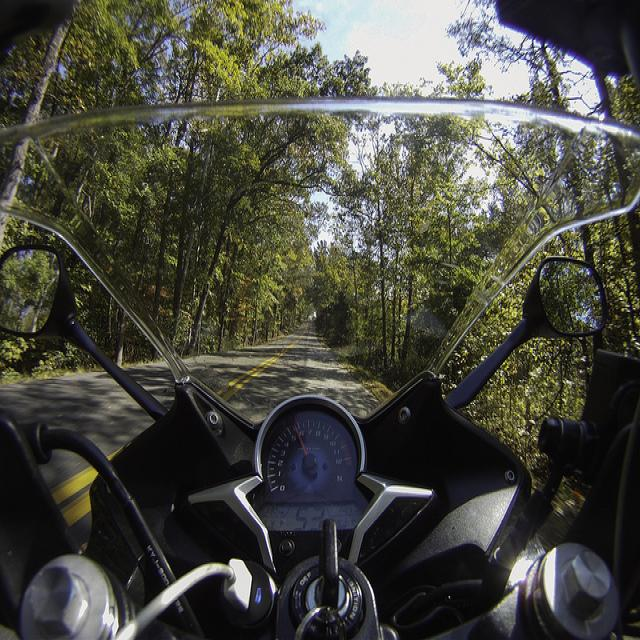motor: (0, 108, 639, 630)
